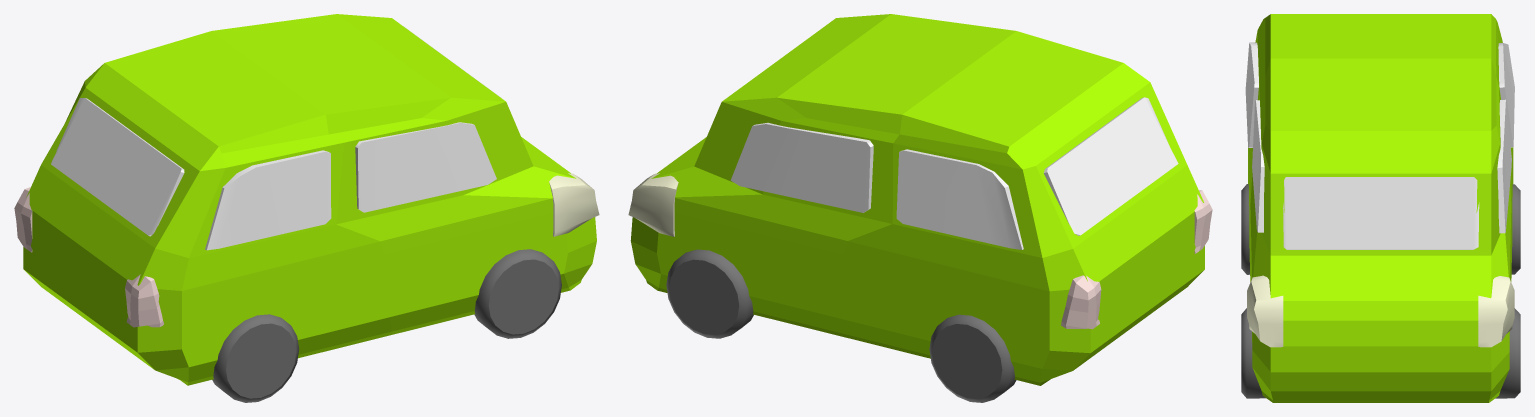
Rendered from CarroVerde.fbx.
The picture shows the model from 3 angles, left to right: view 1: azimuth 30°, elevation 25°; view 2: azimuth 150°, elevation 25°; view 3: azimuth 270°, elevation 25°; orthographic projection. The views are drawn at different scales.
Visible parts, largest first — view 1: pCube1, pCube10, pCube8, pCube7, pCylinder1, pCylinder2, pCube11, pCube9; view 2: pCube1, pCube10, pCube12, pCube4, pCylinder3, pCylinder4, pCube11, pCube9; view 3: pCube1, pCube6, pCube9, pCube12, pCube8, pCylinder3, pCylinder1, pCube4, pCube7, pCylinder4, pCylinder2.
Boxes of the visible parts, x1,y1,x2,y2 form: pCube1: (23,14,596,385); pCube10: (51,98,184,236); pCube8: (355,122,496,212); pCube7: (205,150,331,250); pCylinder1: (474,249,561,338); pCylinder2: (212,314,299,402); pCube11: (14,187,163,327); pCube9: (549,173,599,236); pCube1: (630,14,1204,385); pCube10: (1043,97,1178,235); pCube12: (730,122,873,212); pCube4: (896,149,1023,249); pCylinder3: (666,249,753,338); pCylinder4: (929,314,1016,402); pCube11: (1061,190,1212,329); pCube9: (628,173,678,236); pCube1: (1248,14,1513,402); pCube6: (1283,177,1479,249); pCube9: (1247,275,1514,347); pCube12: (1497,99,1511,233); pCube8: (1252,100,1264,232); pCylinder3: (1495,308,1520,398); pCylinder1: (1241,308,1265,398); pCube4: (1498,42,1514,147); pCube7: (1245,42,1258,147); pCylinder4: (1511,184,1520,274); pCylinder2: (1241,184,1249,274).
Bounding box in the file's own units: 20.49 × 10.94 × 11.09.
